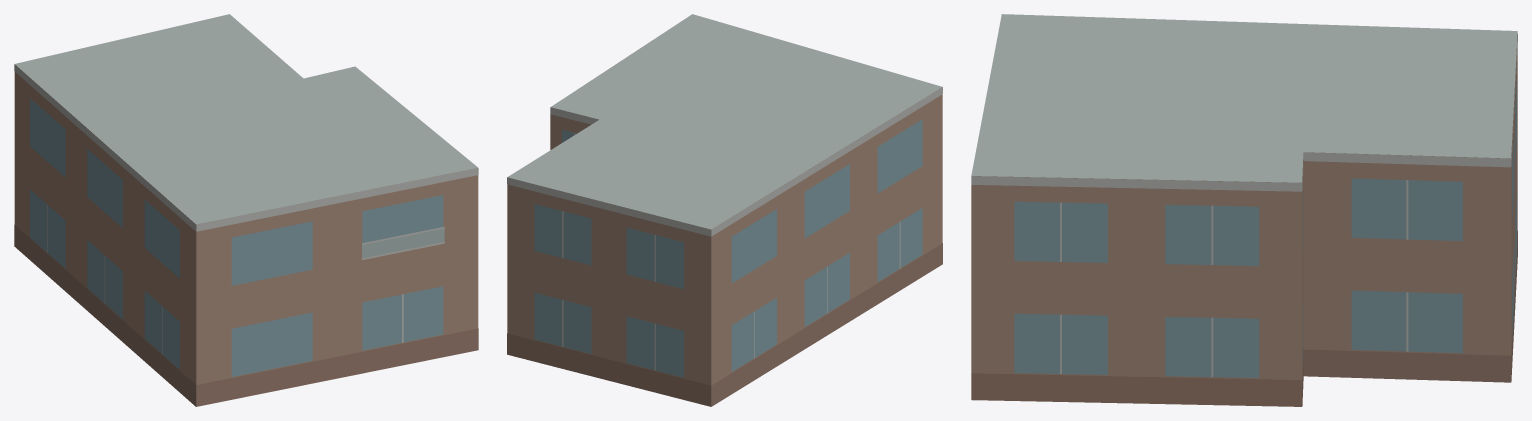
File: survey-upis-32965342.glb
3 renders of one model, left to right at view 1: azimuth 30°, elevation 25°; view 2: azimuth 150°, elevation 25°; view 3: azimuth 270°, elevation 25°, orthographic. The views are drawn at different scales.
Parts seen in each view (by area): view 1: survey-upis-32965342.tmp; view 2: survey-upis-32965342.tmp; view 3: survey-upis-32965342.tmp.
Boxes of the visible parts, bbox=[...] form: survey-upis-32965342.tmp: bbox=[14, 14, 478, 406]; survey-upis-32965342.tmp: bbox=[507, 14, 942, 406]; survey-upis-32965342.tmp: bbox=[971, 14, 1517, 406].
Bounding box in the file's own units: 9.86 × 6.1 × 13.49.
